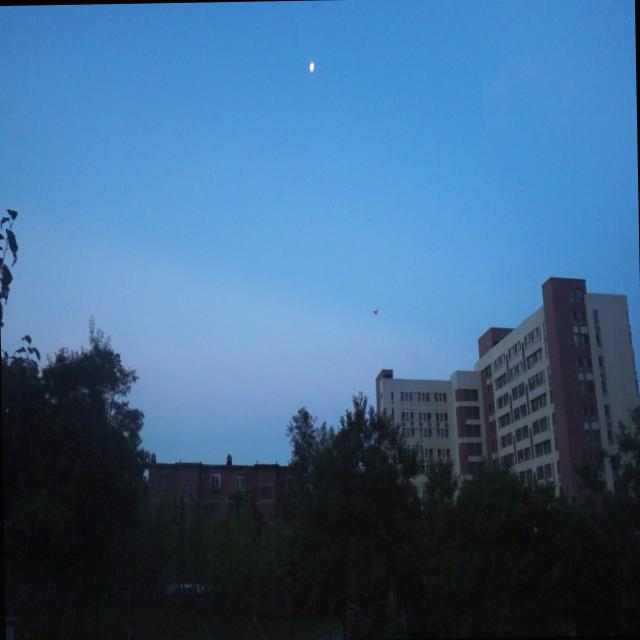drone: (368, 302, 382, 320)
